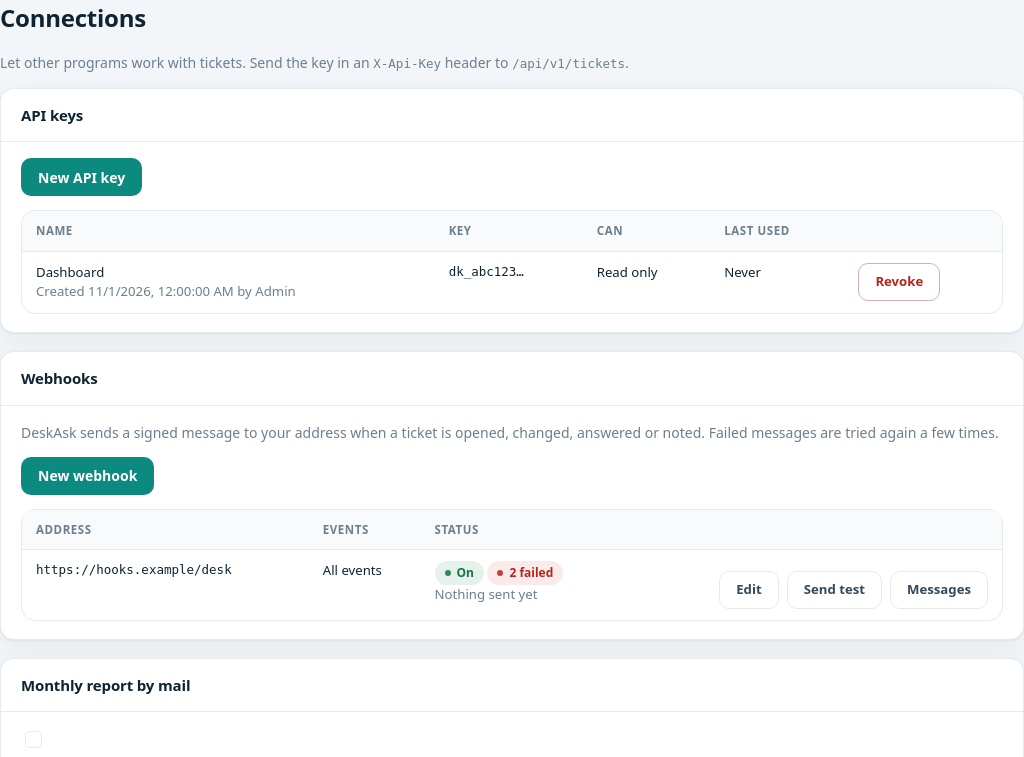
a new key is shown once after it is created
Expected: the text "Dashboard" is shown, top-left (36, 262), bottom-right (104, 280)
Click the button "New API key". click: click(82, 177)
box: top-left (21, 158), bottom-right (142, 196)
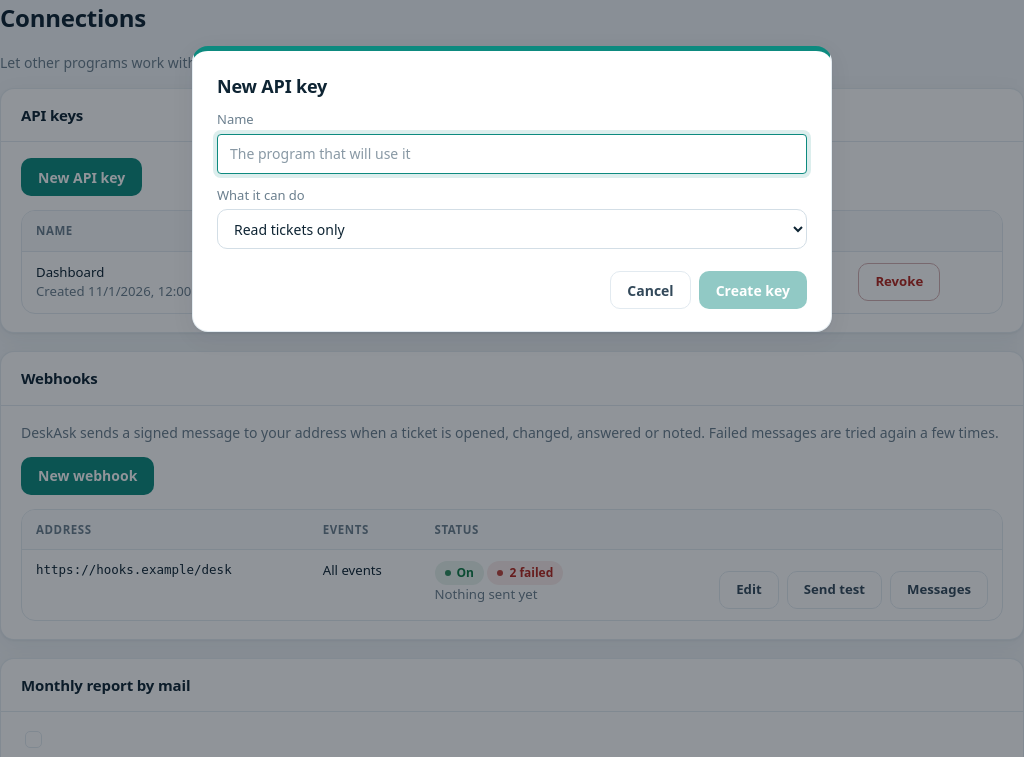
Type "Monitoring tool" into the field with placeholder "The program that will use it". click: (512, 154)
box: top-left (217, 134), bottom-right (807, 174)
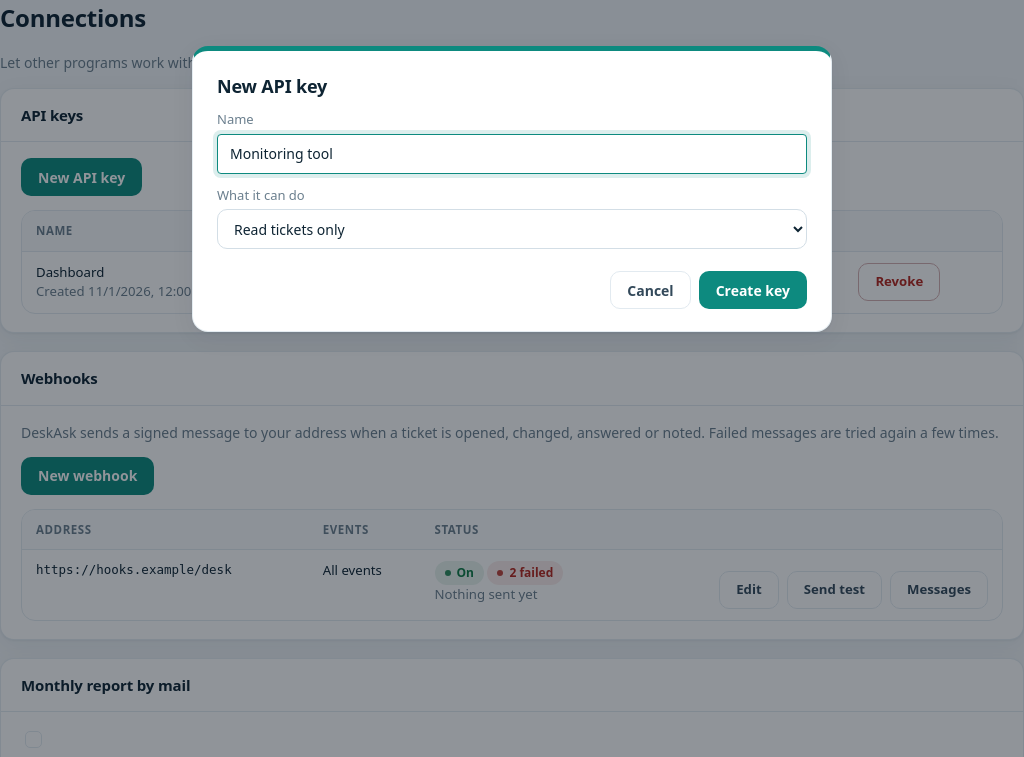
Click the button "Create key". click: click(753, 290)
box: top-left (699, 271), bottom-right (807, 309)
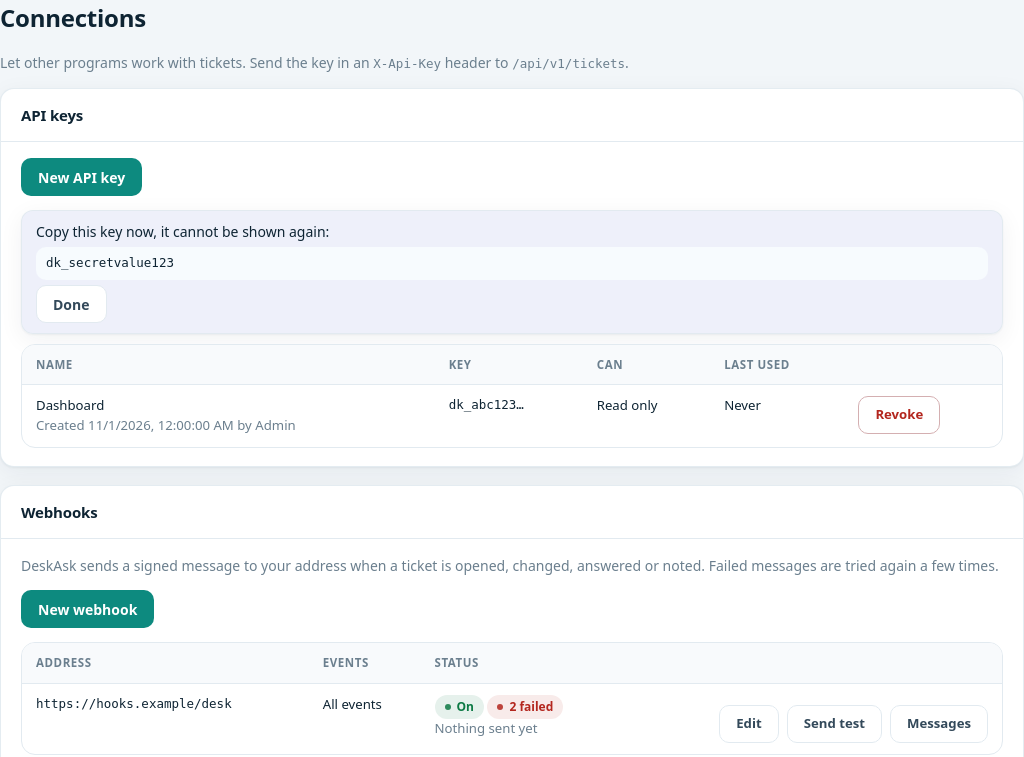
Expected: the text "dk_secretvalue123" is shown, top-left (36, 247), bottom-right (988, 280)
